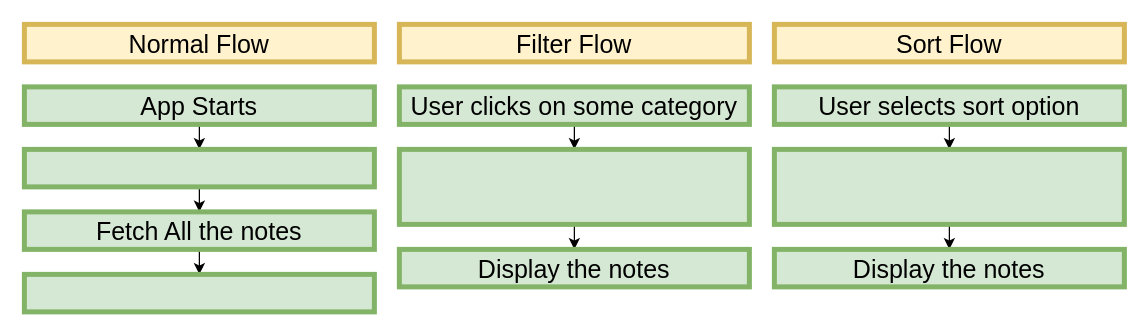
This 1148x335 diagram has some shape labels left out. The shapes that lost their labels are listed below. From the top down, each one's box as (x1, y1, x2, y2) in pixels, then its label:
(21, 146, 376, 189): Home Screen Renders
(396, 146, 751, 226): Fetch the notes belonging to the selected category + sort if required
(771, 146, 1126, 226): Fetch the notes with current selected filter + sort
(21, 271, 376, 314): Notes are displayed to the user
